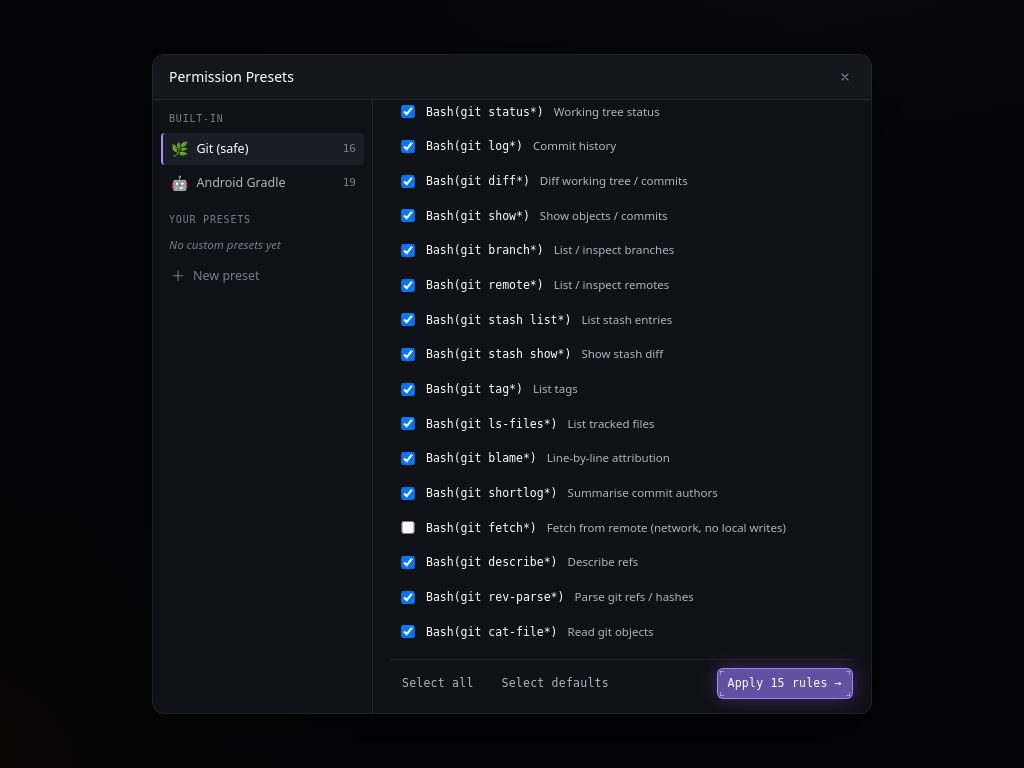
Test: PresetsSheet — toggle + apply › Select defaults restores the enabledByDefault checkboxes
(page scrolled)
Click the button "Select all" at x=438, y=684, box [391,668,484,699]
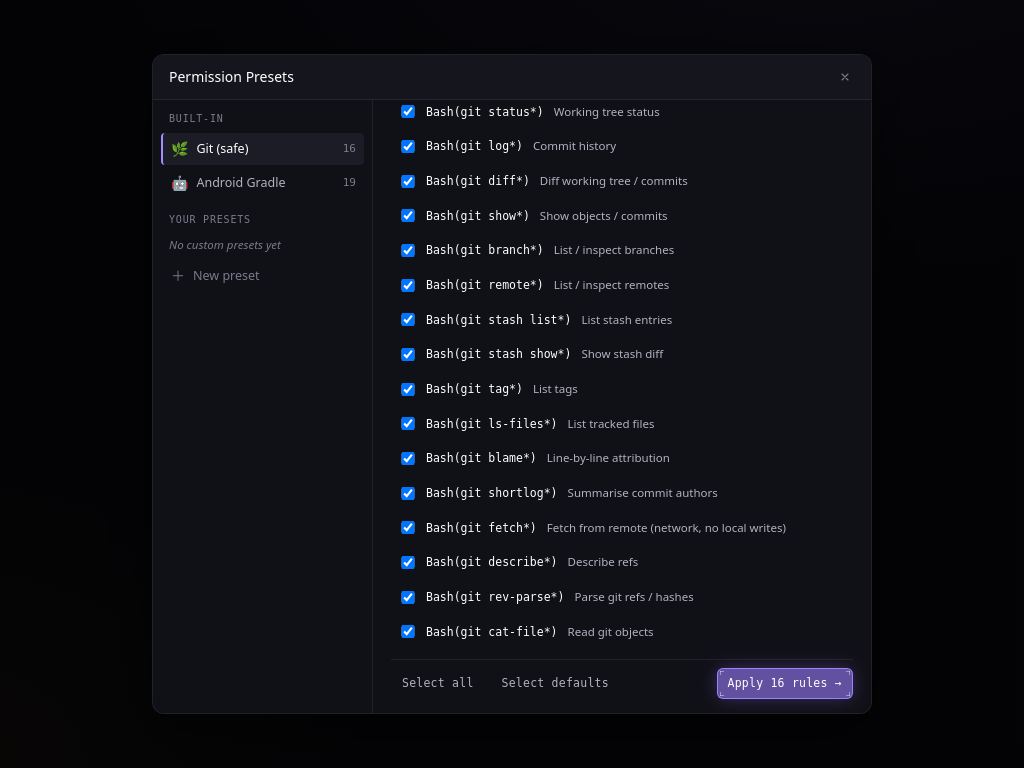
Now defaults: git fetch is off by default
Click the button "Select defaults" at x=555, y=684, box [490,668,620,699]
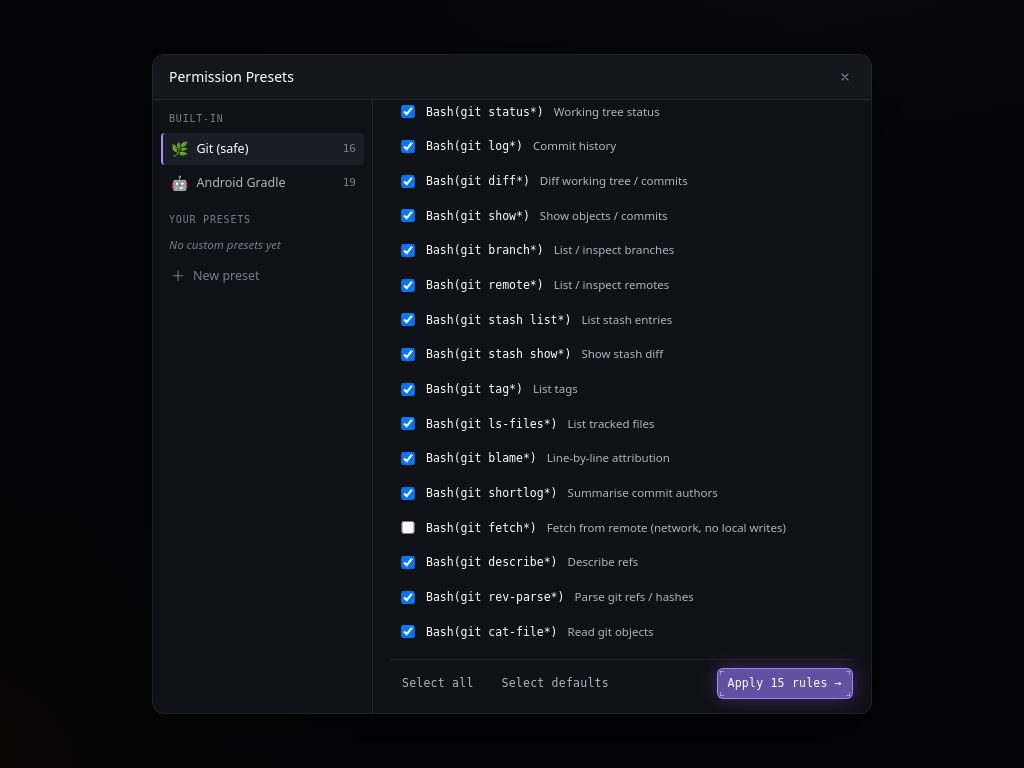
Expected: the checkbox named "Toggle Bash(git log*)" is checked, [400,140,416,153]
Result: the checkbox named "Toggle Bash(git fetch*)" is not checked at [400,521,416,534]
